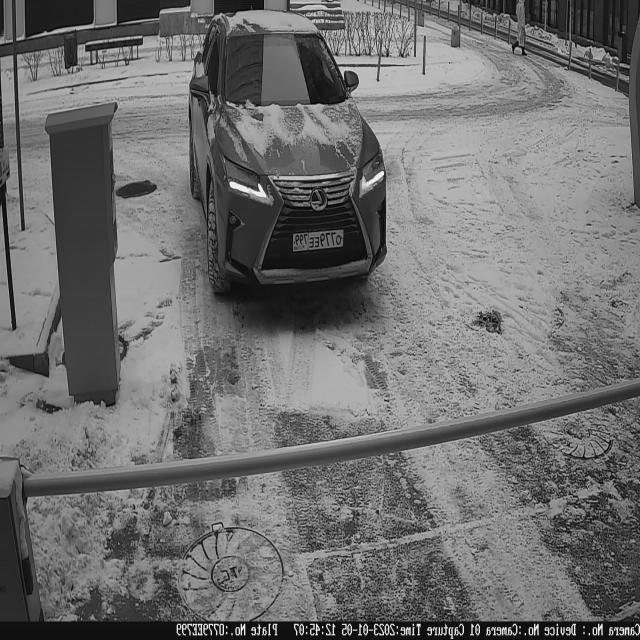car-plate-numbers: (291, 225, 347, 257)
